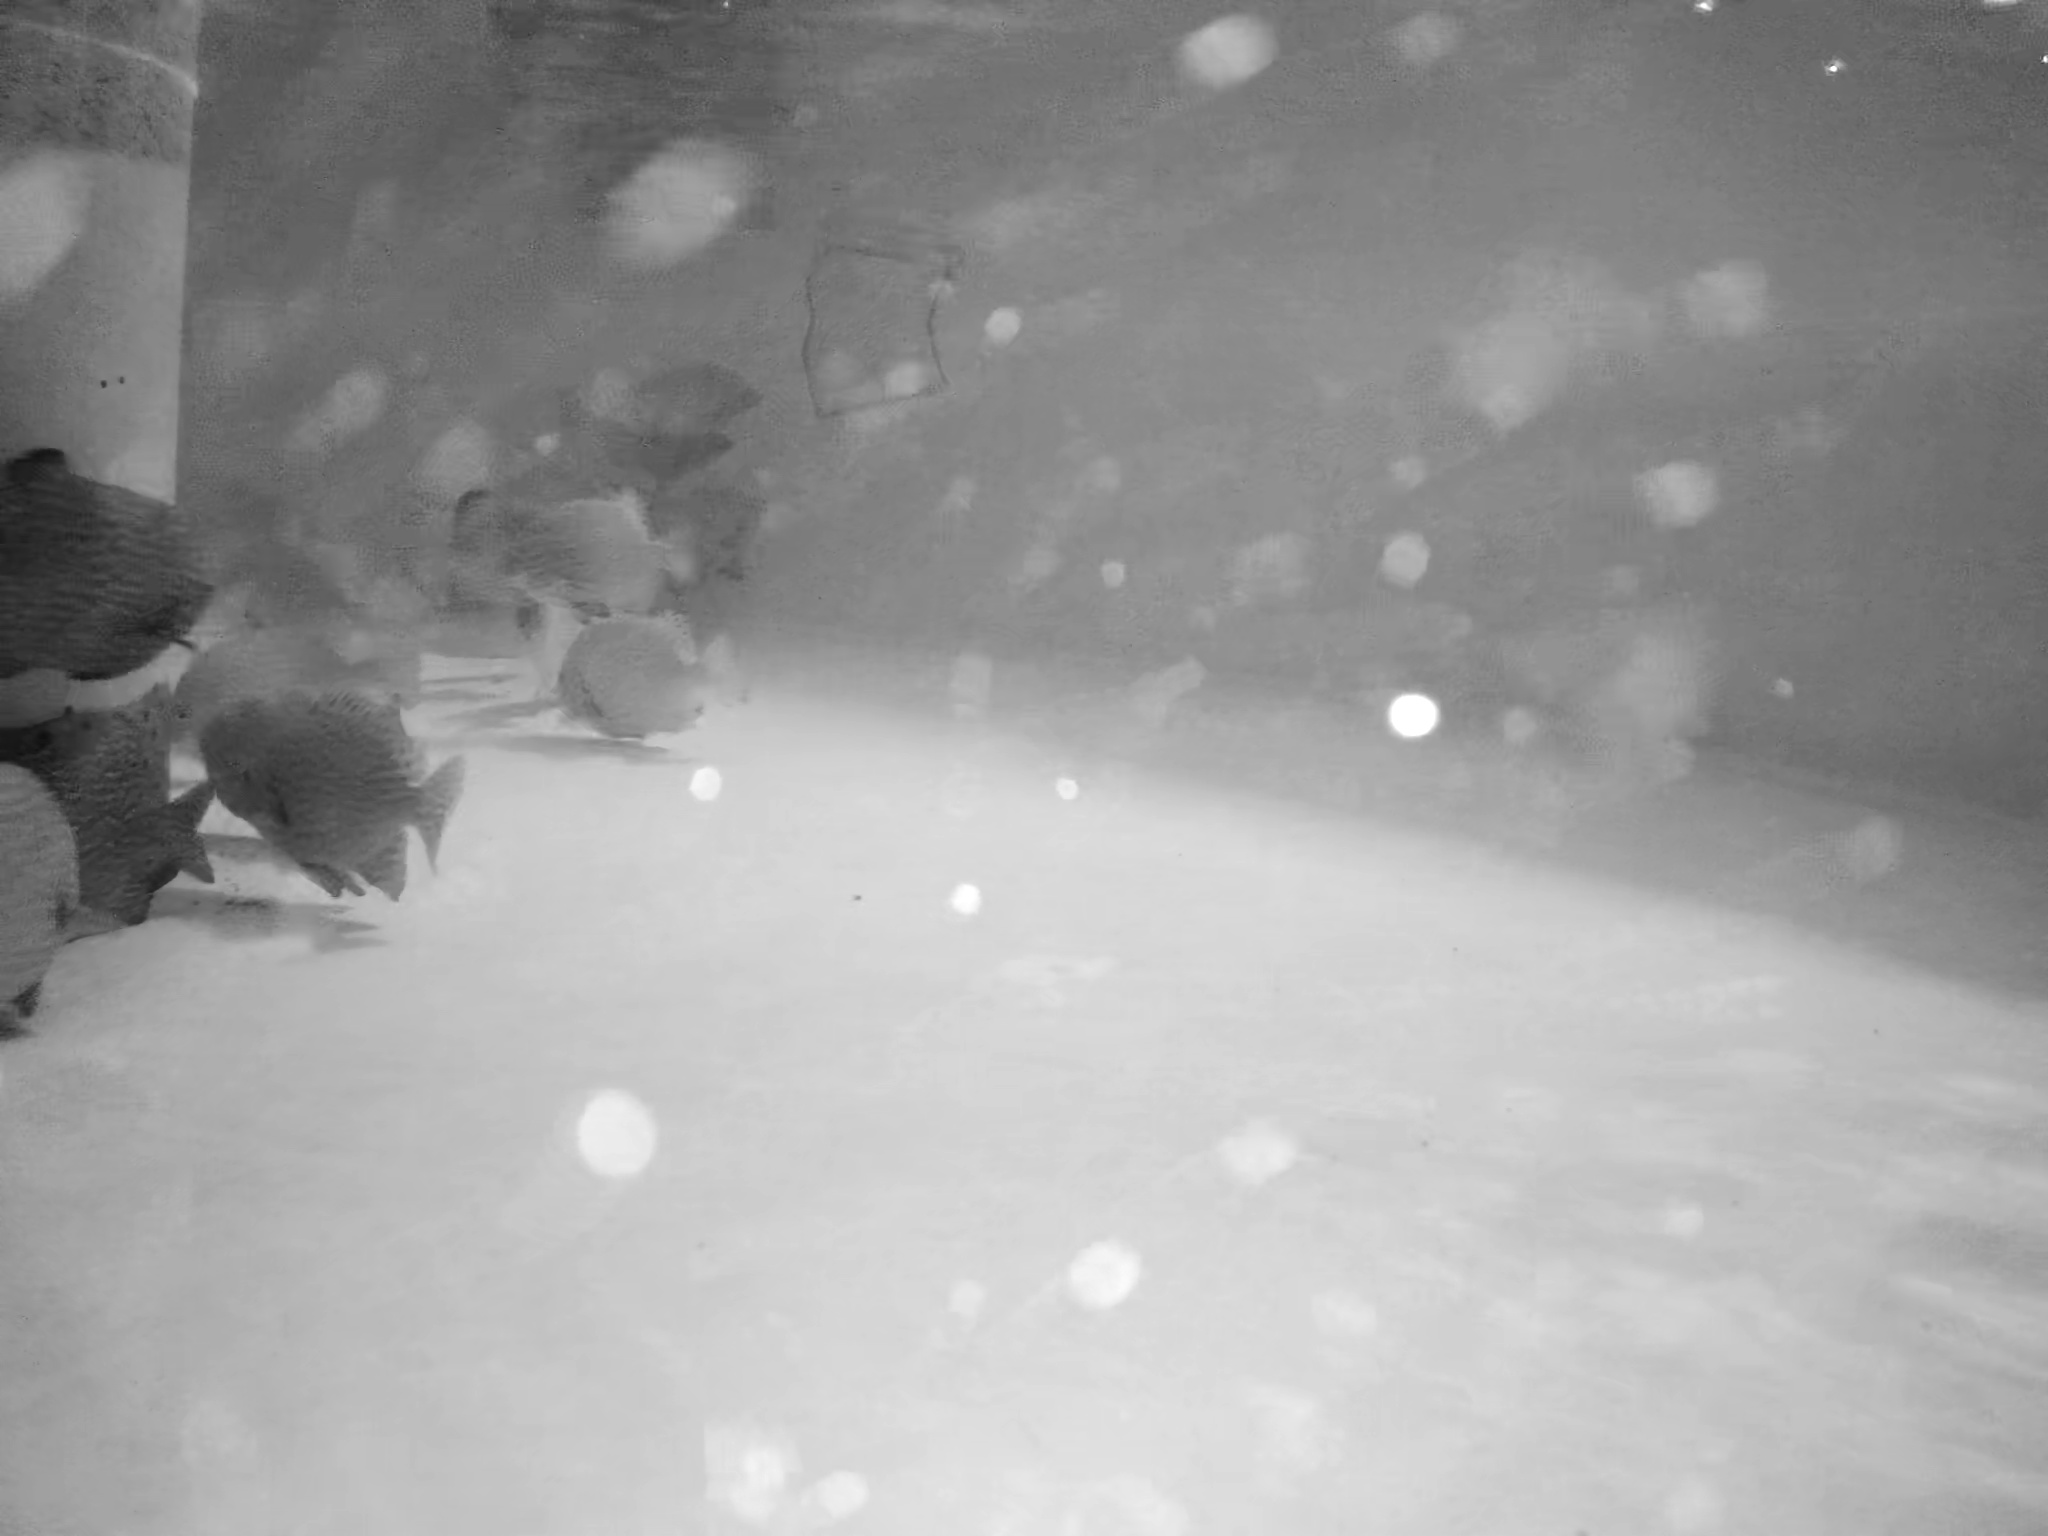fish: (202, 703, 485, 907), (2, 460, 227, 673), (19, 694, 218, 933), (2, 728, 106, 1025), (160, 620, 458, 721), (552, 623, 742, 760), (498, 487, 669, 628), (685, 479, 771, 600), (543, 421, 714, 481), (622, 366, 764, 437)
